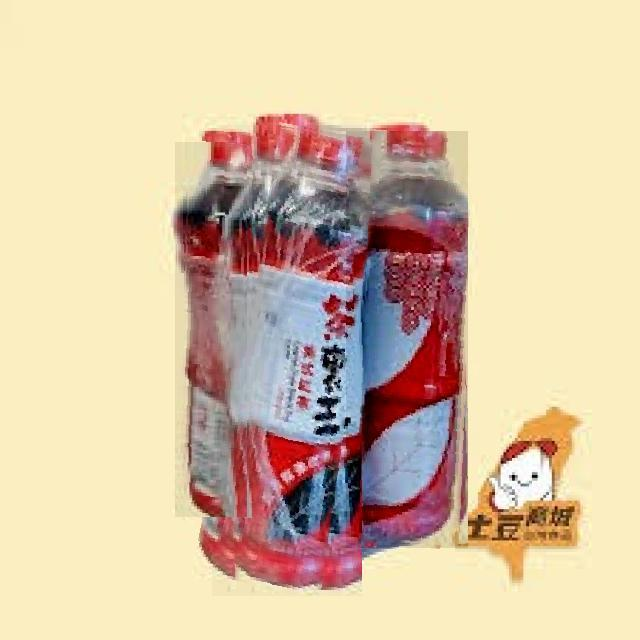ChaLiWong_BlackTea: (212, 125, 362, 596), (346, 131, 468, 548), (175, 142, 247, 517)
